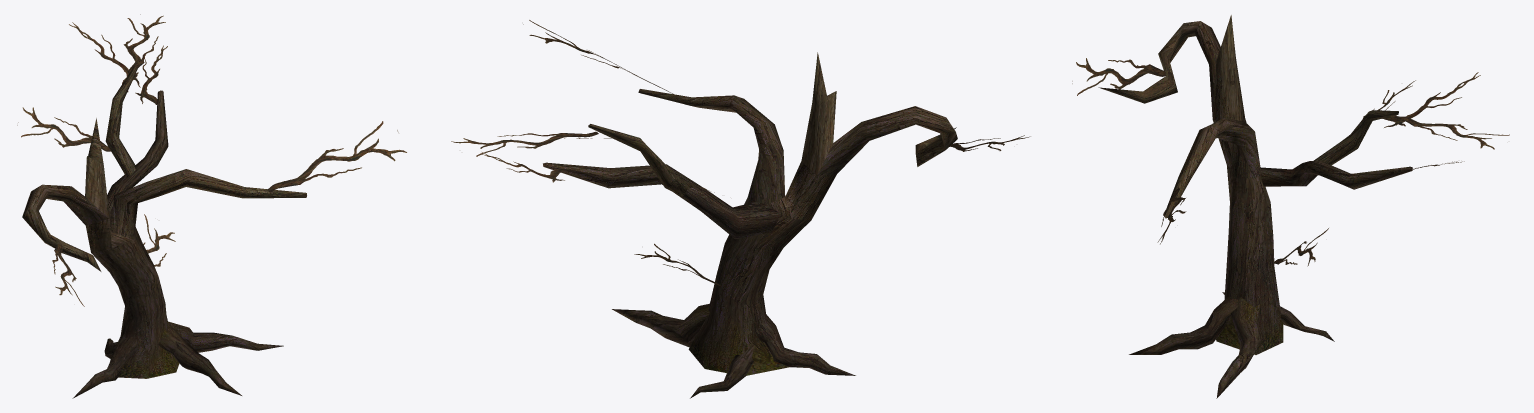
File: yw_huxiaoshamo_kushu02.FBX
3 renders of one model, left to right at view 1: azimuth 30°, elevation 25°; view 2: azimuth 150°, elevation 25°; view 3: azimuth 270°, elevation 25°, orthographic. The views are drawn at different scales.
Visible parts, largest first — view 1: yw_huxiaoshamo_kushu02; view 2: yw_huxiaoshamo_kushu02; view 3: yw_huxiaoshamo_kushu02.
Part boxes in pixels (<box>): yw_huxiaoshamo_kushu02: <box>17,14,406,398</box>; yw_huxiaoshamo_kushu02: <box>451,20,1030,398</box>; yw_huxiaoshamo_kushu02: <box>1072,15,1509,398</box>.
Bounding box in the file's own units: 952 × 626 × 860.
